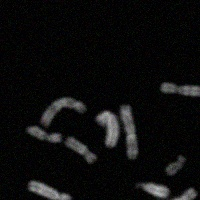chromosome: (40, 98, 85, 126), (64, 137, 97, 164), (96, 111, 119, 148), (121, 105, 137, 158), (27, 181, 70, 200), (24, 126, 61, 143), (160, 82, 200, 95), (157, 189, 198, 200), (165, 156, 184, 176), (142, 184, 167, 198)
